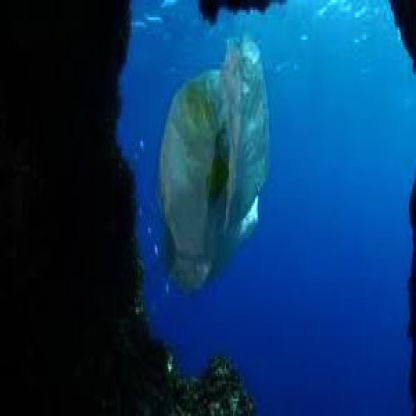pbag: (157, 34, 270, 294)
